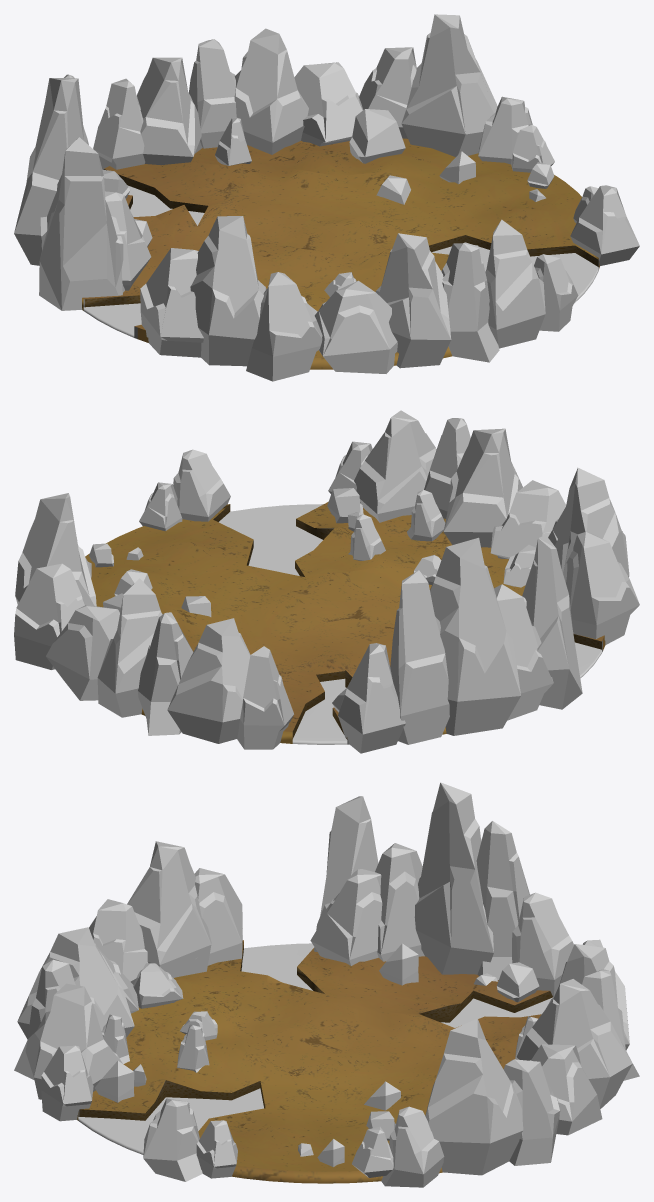
Rendered from environment finall.fbx.
3 views of the same model, one above another, from view 1: azimuth 30°, elevation 25°; view 2: azimuth 150°, elevation 25°; view 3: azimuth 270°, elevation 25° (orthographic).
Visible parts, largest first — view 1: Rocks, pDisc1; view 2: Rocks, pDisc1; view 3: Rocks, pDisc1.
Part boxes in pixels (left/top/right/bottom): Rocks: left=14, top=14, right=639, bottom=381; pDisc1: left=82, top=138, right=599, bottom=369; Rocks: left=14, top=410, right=639, bottom=753; pDisc1: left=85, top=502, right=605, bottom=744; Rocks: left=14, top=782, right=639, bottom=1187; pDisc1: left=77, top=940, right=552, bottom=1183.
Size of the model in its own units: 25.98 by 8.62 by 26.89.
